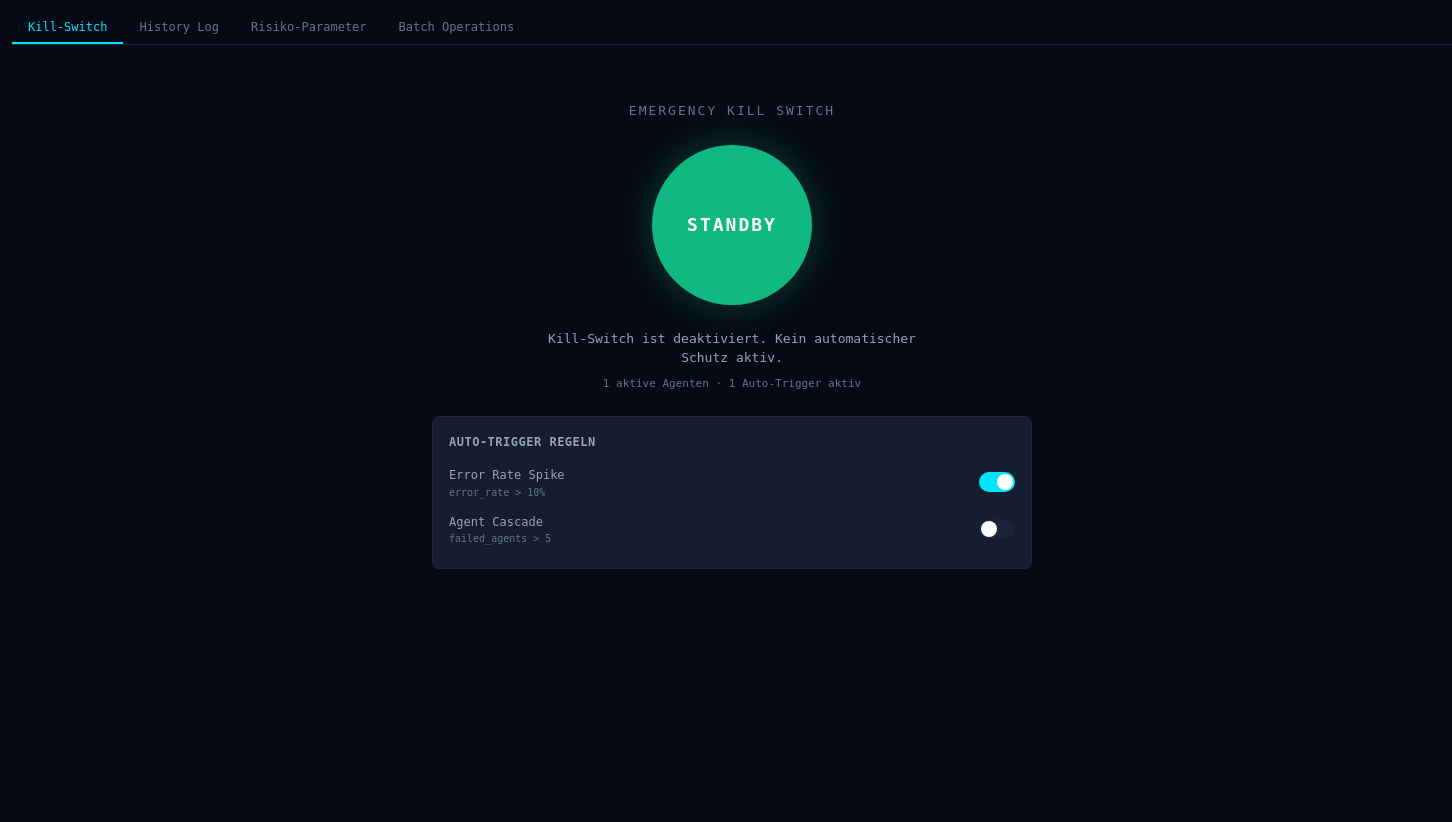
Test case: KillSwitchView › switches to history tab and shows events
This screenshot has width=1452, height=822.
Click the button "History Log" at (179, 28), box [124,12,235,44]
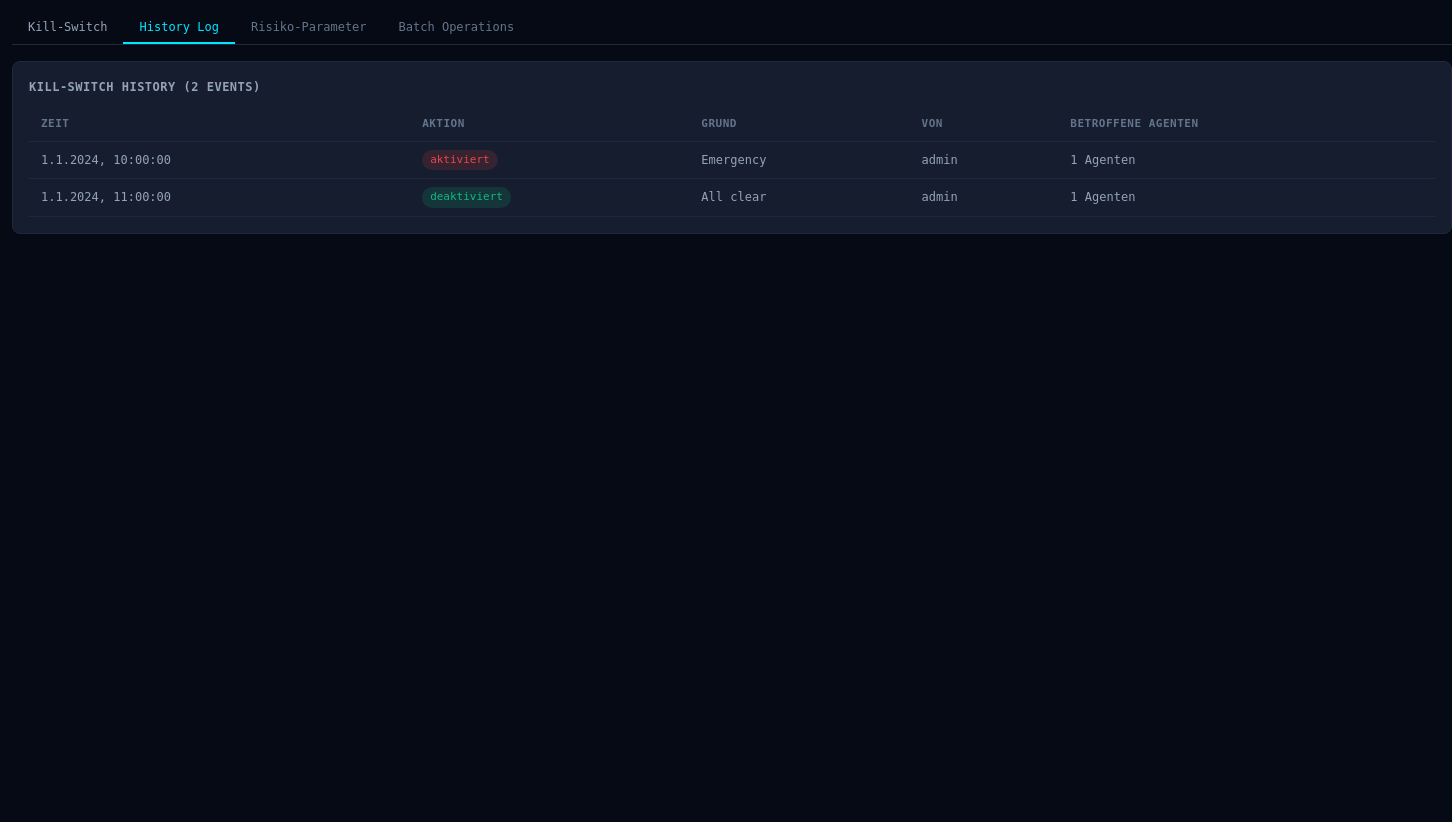
Expected: the text "Emergency" is shown, [689,141,910,178]
Expected: the text "Kill-Switch History (2 Events)" is shown, [29,78,261,96]
Expected: the text "All clear" is shown, [689,178,910,216]
